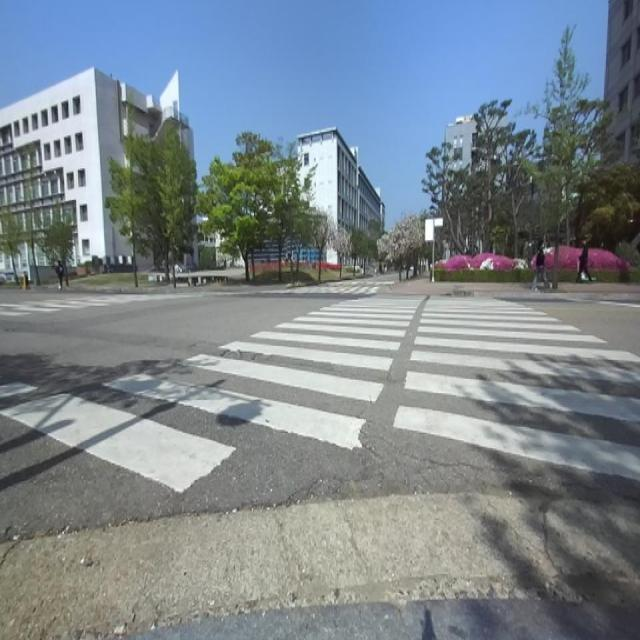sidewalk: (131, 599, 640, 640), (392, 278, 503, 294)
